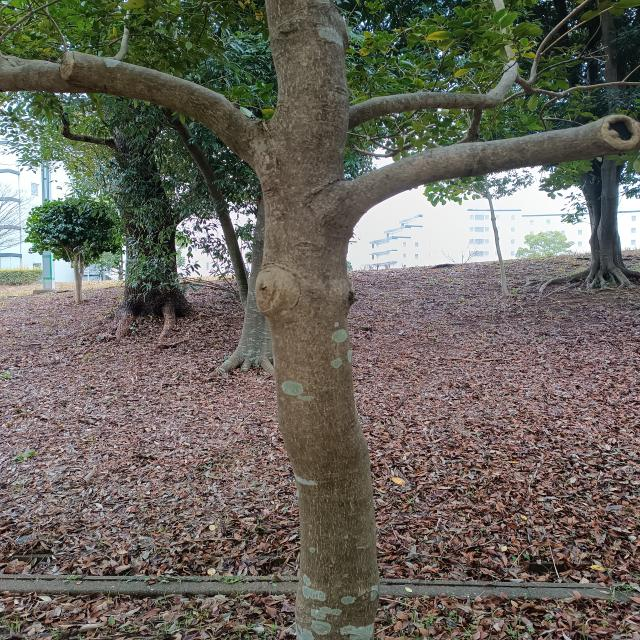Branch: (344, 116, 635, 221), (61, 54, 261, 172), (348, 62, 540, 127)
Twig: (531, 0, 591, 75), (503, 81, 626, 103), (539, 56, 585, 75)
